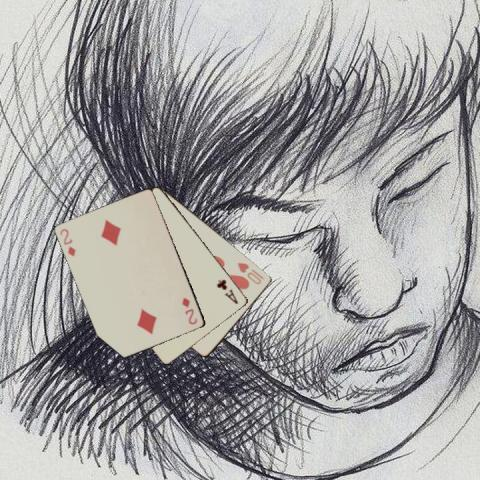10h: (235, 259, 265, 286)
2d: (58, 226, 78, 258), (179, 295, 199, 326)
Ac: (214, 276, 240, 305)
